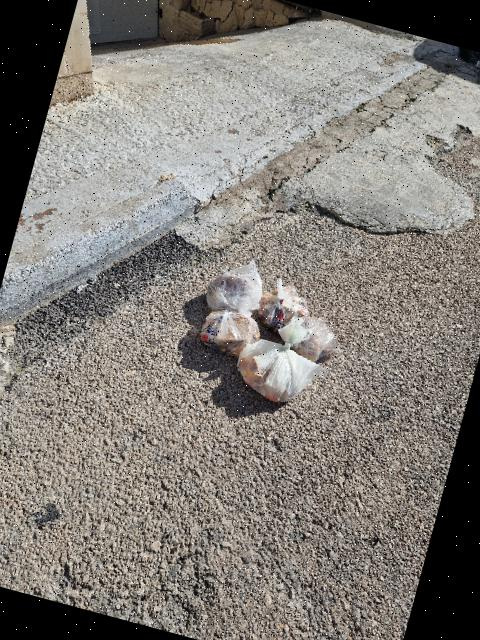Organic -White-: (236, 318, 322, 402), (206, 261, 262, 313), (200, 311, 259, 357), (257, 279, 307, 331), (293, 317, 338, 361)
